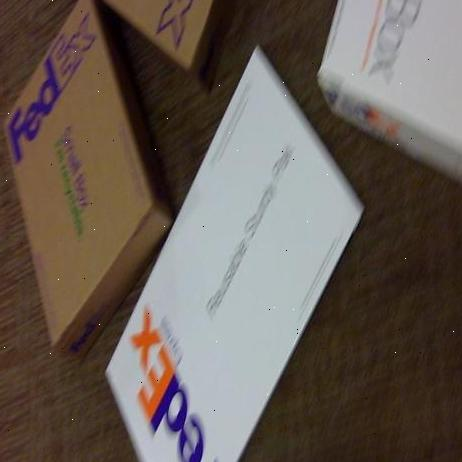Amazon: (146, 85, 374, 462), (0, 17, 153, 362)
